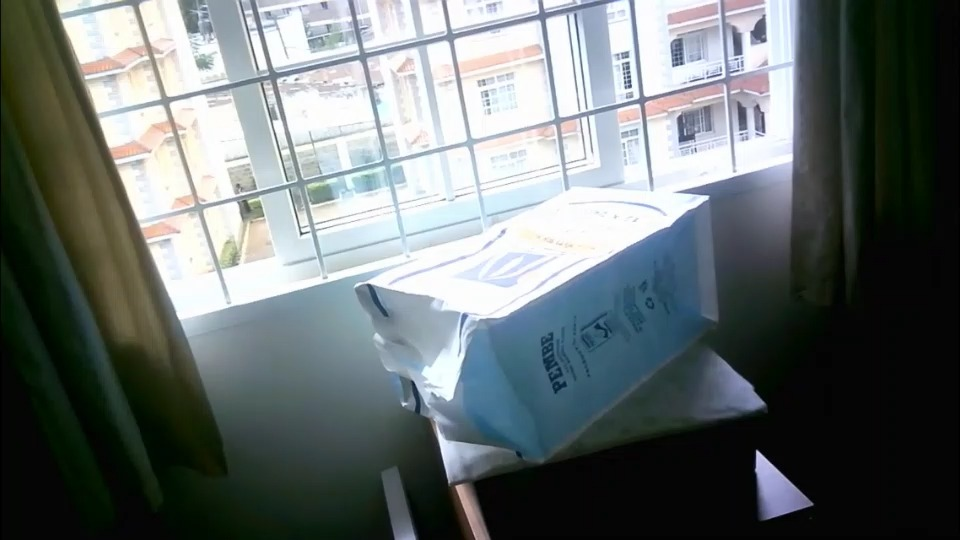wheat_flour_blue_label: (357, 183, 716, 461)
